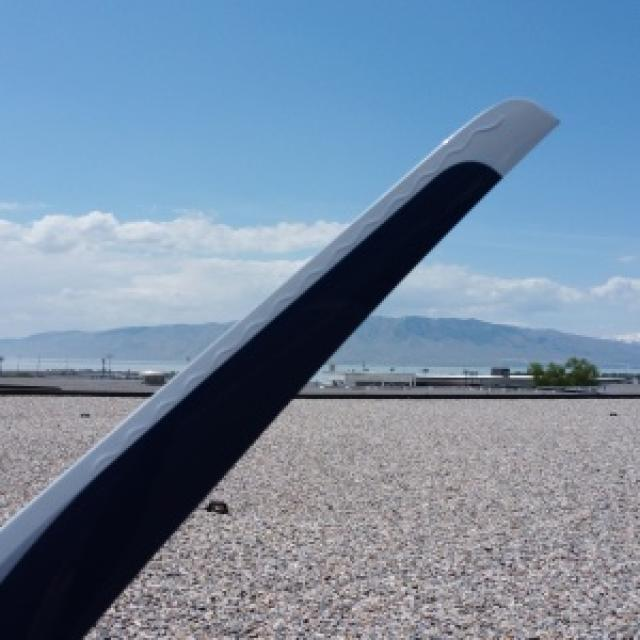healthy: (0, 100, 555, 638)
